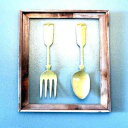fork: (36, 20, 66, 100)
